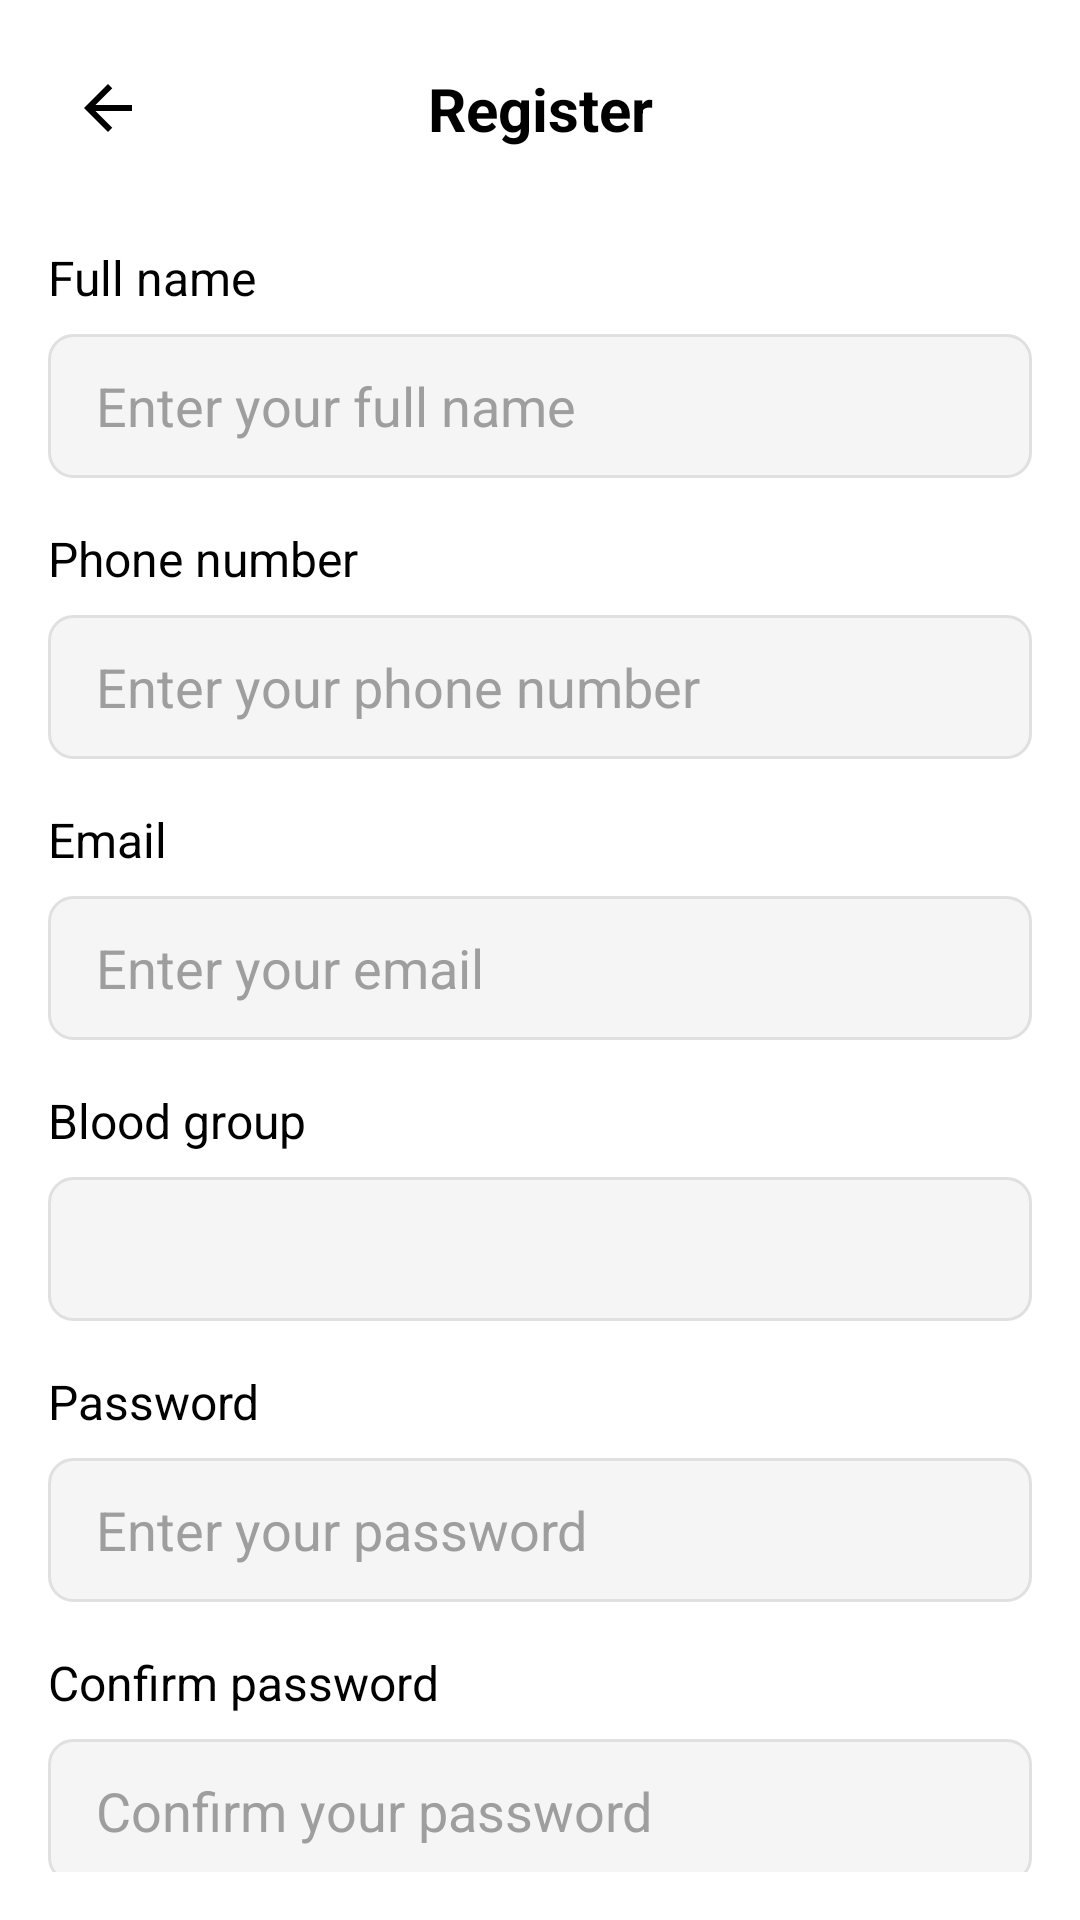

Named icons in this screenshot (1080px×1920px) and their bounding boxes, [left=x1, top=y1, right=x2, bottom=y2]:
arrow back: [left=84, top=84, right=132, bottom=132]
